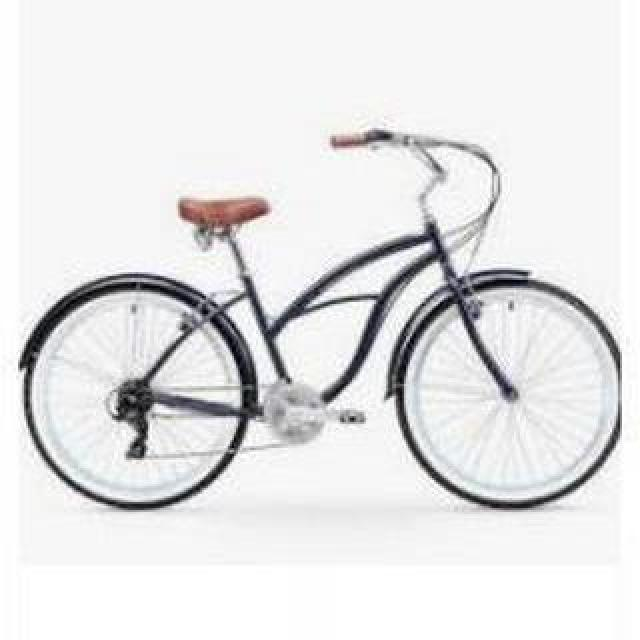Person: (14, 125, 624, 519)
